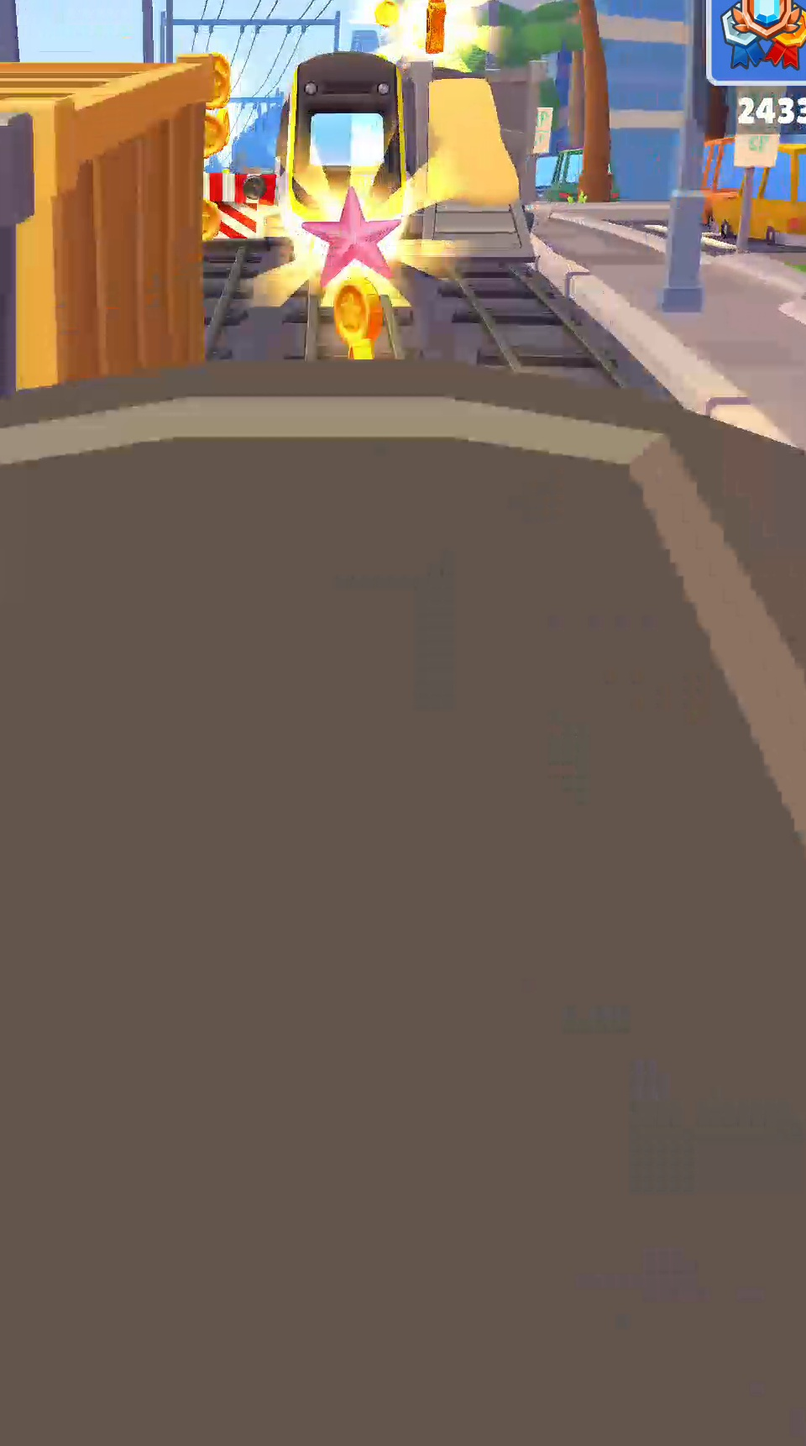climber: (403, 61, 542, 255)
roll blocker: (203, 171, 274, 238)
train: (0, 51, 229, 389), (283, 51, 420, 220), (0, 113, 34, 395)
